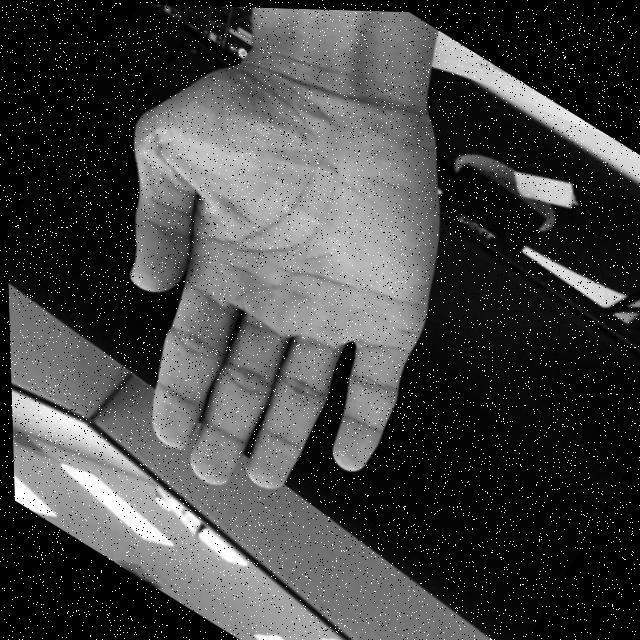no-gloves: (0, 0, 529, 557)
